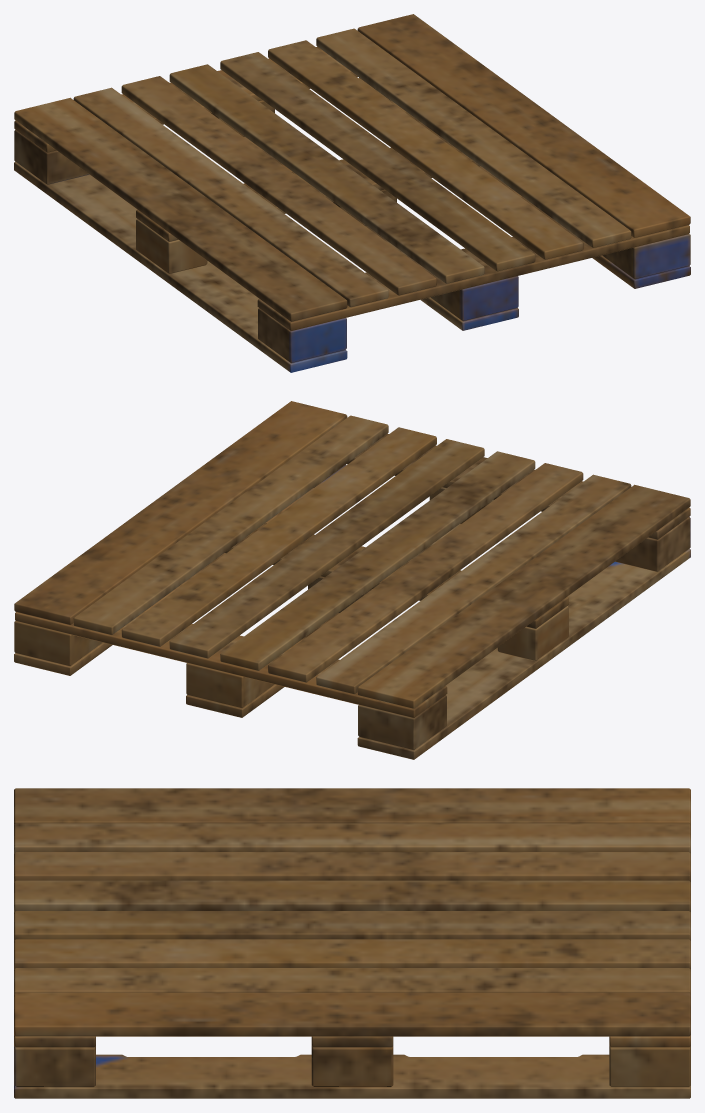
Rendered from WoodenPallet.glb.
3 views of the same model, one above another, from view 1: azimuth 30°, elevation 25°; view 2: azimuth 150°, elevation 25°; view 3: azimuth 270°, elevation 25° (orthographic). The views are drawn at different scales.
Visible parts, largest first — view 1: SM_props_inspect_props_0.611, SM_props_inspect_props_0.612, SM_props_inspect_props_0.613, SM_props_inspect_props_0.614, SM_props_inspect_props_0.615, SM_props_inspect_props_0.617, SM_props_inspect_props_0.618, SM_props_inspect_props_0.616, SM_props_inspect_props_0.633, SM_props_inspect_props_0.619, SM_props_inspect_props_0.622, SM_props_inspect_props_0.624 (+7 smaller); view 2: SM_props_inspect_props_0.611, SM_props_inspect_props_0.612, SM_props_inspect_props_0.613, SM_props_inspect_props_0.614, SM_props_inspect_props_0.615, SM_props_inspect_props_0.617, SM_props_inspect_props_0.618, SM_props_inspect_props_0.616, SM_props_inspect_props_0.633, SM_props_inspect_props_0.621, SM_props_inspect_props_0.628, SM_props_inspect_props_0.630 (+7 smaller); view 3: SM_props_inspect_props_0.612, SM_props_inspect_props_0.611, SM_props_inspect_props_0.632, SM_props_inspect_props_0.618, SM_props_inspect_props_0.614, SM_props_inspect_props_0.616, SM_props_inspect_props_0.615, SM_props_inspect_props_0.617, SM_props_inspect_props_0.613, SM_props_inspect_props_0.625, SM_props_inspect_props_0.624, SM_props_inspect_props_0.630 (+3 smaller).
Boxes of the visible parts, <box> form: SM_props_inspect_props_0.611: <box>14,97,347,321</box>; SM_props_inspect_props_0.612: <box>357,14,690,238</box>; SM_props_inspect_props_0.613: <box>316,28,631,248</box>; SM_props_inspect_props_0.614: <box>268,40,583,259</box>; SM_props_inspect_props_0.615: <box>220,52,535,271</box>; SM_props_inspect_props_0.617: <box>121,76,436,295</box>; SM_props_inspect_props_0.618: <box>169,64,484,283</box>; SM_props_inspect_props_0.616: <box>73,87,388,307</box>; SM_props_inspect_props_0.633: <box>14,161,347,372</box>; SM_props_inspect_props_0.619: <box>257,225,689,330</box>; SM_props_inspect_props_0.622: <box>258,308,346,363</box>; SM_props_inspect_props_0.624: <box>602,234,690,279</box>; SM_props_inspect_props_0.611: <box>357,484,690,708</box>; SM_props_inspect_props_0.612: <box>14,401,347,625</box>; SM_props_inspect_props_0.613: <box>73,415,388,635</box>; SM_props_inspect_props_0.614: <box>121,427,436,646</box>; SM_props_inspect_props_0.615: <box>169,439,484,658</box>; SM_props_inspect_props_0.617: <box>268,463,583,682</box>; SM_props_inspect_props_0.618: <box>220,451,535,670</box>; SM_props_inspect_props_0.616: <box>316,474,631,694</box>; SM_props_inspect_props_0.633: <box>357,548,690,759</box>; SM_props_inspect_props_0.621: <box>15,612,447,718</box>; SM_props_inspect_props_0.628: <box>358,695,446,750</box>; SM_props_inspect_props_0.630: <box>14,621,102,666</box>; SM_props_inspect_props_0.612: <box>14,992,690,1036</box>; SM_props_inspect_props_0.611: <box>14,788,690,824</box>; SM_props_inspect_props_0.632: <box>14,1054,690,1098</box>; SM_props_inspect_props_0.618: <box>14,880,690,911</box>; SM_props_inspect_props_0.614: <box>14,939,690,969</box>; SM_props_inspect_props_0.616: <box>14,823,690,853</box>; SM_props_inspect_props_0.615: <box>14,911,690,940</box>; SM_props_inspect_props_0.617: <box>14,852,690,881</box>; SM_props_inspect_props_0.613: <box>14,968,690,993</box>; SM_props_inspect_props_0.625: <box>311,1046,393,1087</box>; SM_props_inspect_props_0.624: <box>14,1046,95,1087</box>; SM_props_inspect_props_0.630: <box>609,1046,690,1087</box>.
Size of the model in its own units: 1 by 0.143 by 1.2.
1 material, 1 textured.
